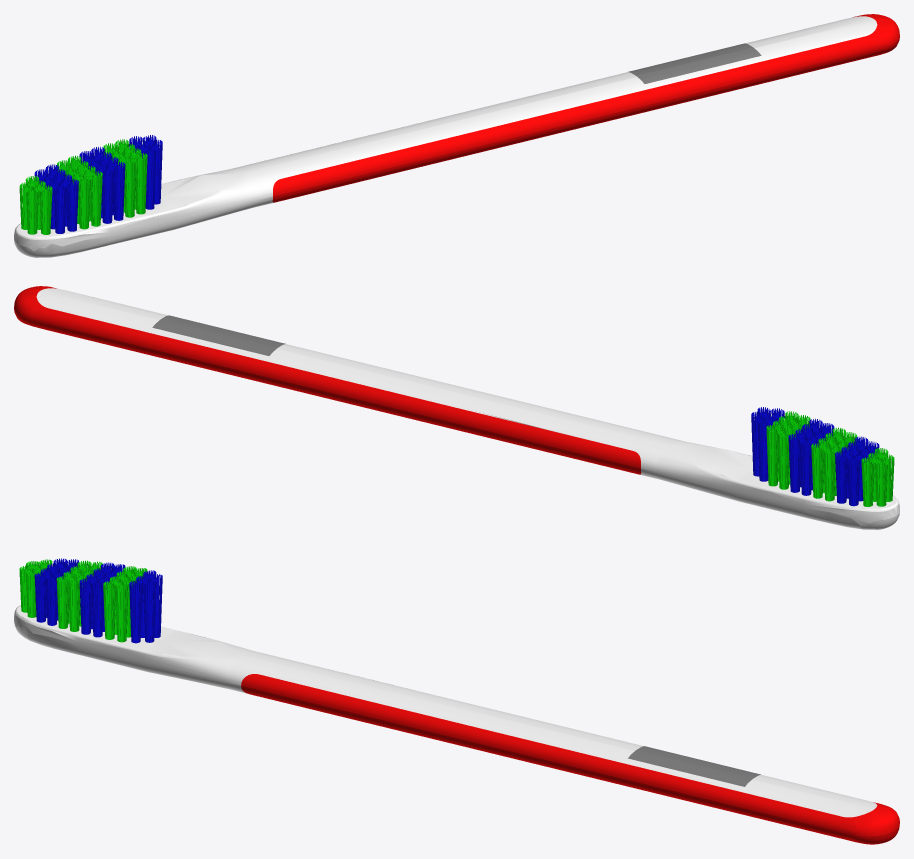
File: professional-27.fbx
3 views of the same model, one above another, from view 1: azimuth 30°, elevation 25°; view 2: azimuth 150°, elevation 25°; view 3: azimuth 330°, elevation 25° (orthographic).
Visible parts, largest first — view 1: body-primary, body-secondary, bristles-secondary, bristles-primary, logo; view 2: body-primary, body-secondary, bristles-secondary, bristles-primary, logo; view 3: body-primary, body-secondary, bristles-primary, bristles-secondary, logo.
Part boxes in pixels (left/top/right/bottom): body-primary: left=14, top=16, right=877, bottom=257; body-secondary: left=272, top=14, right=899, bottom=202; bristles-secondary: left=19, top=139, right=147, bottom=234; bristles-primary: left=34, top=135, right=162, bottom=233; logo: left=628, top=43, right=761, bottom=83; body-primary: left=36, top=288, right=899, bottom=529; body-secondary: left=14, top=286, right=641, bottom=474; bristles-secondary: left=766, top=411, right=894, bottom=506; bristles-primary: left=751, top=407, right=879, bottom=506; logo: left=152, top=315, right=285, bottom=355; body-primary: left=14, top=605, right=877, bottom=817; body-secondary: left=241, top=674, right=899, bottom=844; bristles-primary: left=34, top=558, right=162, bottom=643; bristles-secondary: left=19, top=559, right=147, bottom=642; logo: left=628, top=746, right=760, bottom=786.
Bounding box in the file's own units: 0.2837 × 0.0263 × 0.0178.
